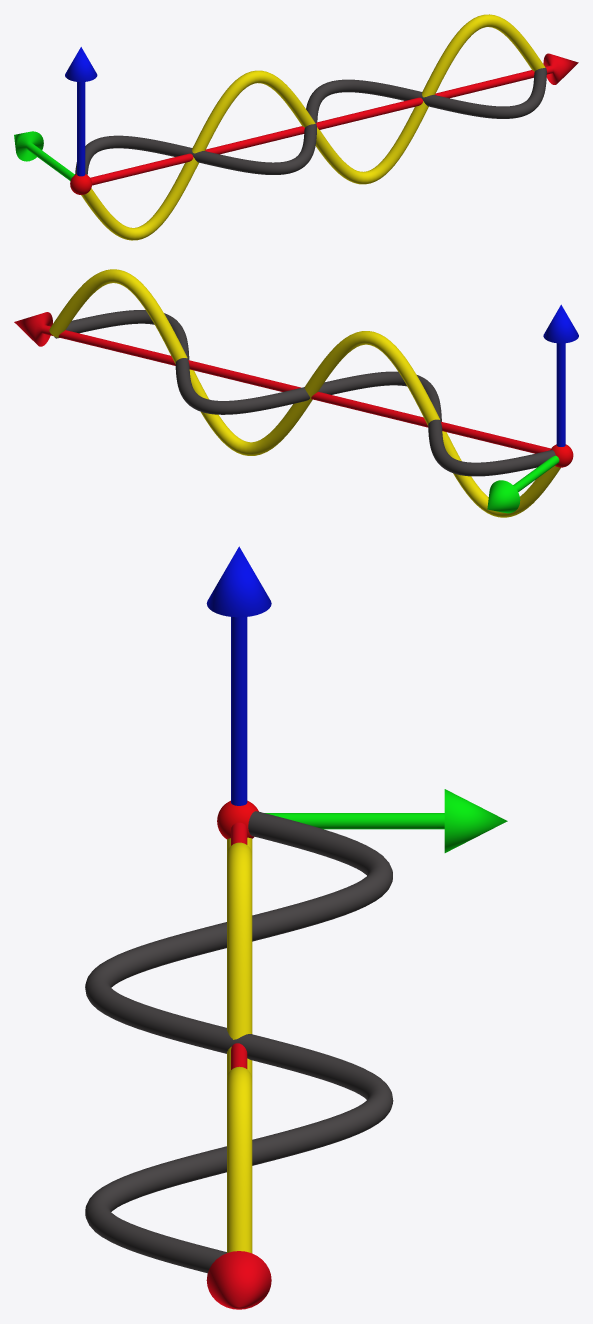
The model's file is DaveWave (1).glb.
The picture shows the model from 3 angles, top to bottom: view 1: azimuth 30°, elevation 25°; view 2: azimuth 150°, elevation 25°; view 3: azimuth 270°, elevation 25°; orthographic projection. The views are drawn at different scales.
Visible parts, largest first — view 1: Z_Function, Z_Function001, Cylinder, Cylinder001, Cylinder002, Sphere; view 2: Z_Function, Z_Function001, Cylinder, Cylinder001, Cylinder002, Sphere; view 3: Z_Function001, Z_Function, Cylinder001, Cylinder002, Cylinder.
Boxes of the visible parts, <box> form: Z_Function: <box>81,14,545,240</box>; Z_Function001: <box>75,67,546,174</box>; Cylinder: <box>90,53,578,185</box>; Cylinder001: <box>65,47,97,176</box>; Cylinder002: <box>14,131,74,180</box>; Sphere: <box>70,174,92,194</box>; Z_Function: <box>49,269,560,517</box>; Z_Function001: <box>54,310,555,476</box>; Cylinder: <box>14,312,550,453</box>; Cylinder001: <box>543,304,578,446</box>; Cylinder002: <box>487,455,559,513</box>; Sphere: <box>550,444,573,467</box>; Z_Function001: <box>85,811,393,1273</box>; Z_Function: <box>227,837,252,1253</box>; Cylinder001: <box>206,546,271,805</box>; Cylinder002: <box>265,789,507,852</box>; Cylinder: <box>206,822,271,1309</box>.
Size of the model in its own units: 14 by 5.4 by 5.01.
